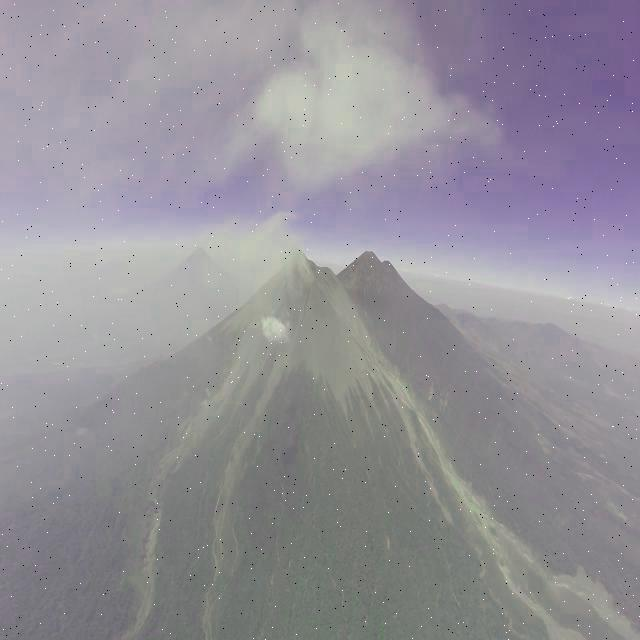Plume: (231, 4, 498, 208)
Summit: (272, 244, 318, 278)
